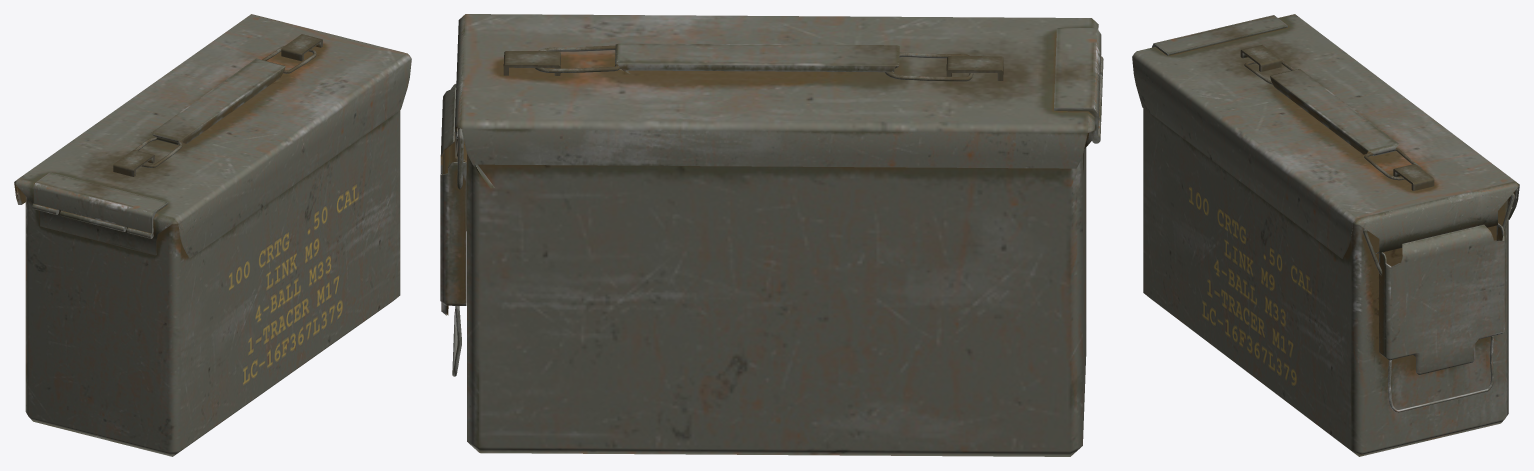
Rendered from ammo_box.glb.
3 renders of one model, left to right at view 1: azimuth 30°, elevation 25°; view 2: azimuth 150°, elevation 25°; view 3: azimuth 270°, elevation 25°, orthographic. The views are drawn at different scales.
Parts seen in each view (by area): view 1: polySurface604, polySurface622, polySurface623, polySurface625, pCube108, pCube109, pCylinder57; view 2: polySurface604, polySurface622, polySurface625, polySurface621, polySurface623, pCube109, pCube108, polySurface624, polySurface626; view 3: polySurface604, polySurface622, polySurface621, polySurface625, polySurface623, polySurface619, pCube109, pCube108.
Part boxes in pixels (bbox=[...]): polySurface604: bbox=[25, 110, 400, 456]; polySurface622: bbox=[14, 14, 411, 258]; polySurface623: bbox=[33, 172, 168, 233]; polySurface625: bbox=[151, 58, 285, 144]; pCube108: bbox=[281, 34, 322, 61]; pCube109: bbox=[113, 150, 154, 176]; pCylinder57: bbox=[60, 210, 126, 231]; polySurface604: bbox=[467, 148, 1086, 456]; polySurface622: bbox=[455, 14, 1098, 188]; polySurface625: bbox=[615, 43, 899, 74]; polySurface621: bbox=[440, 84, 466, 315]; polySurface623: bbox=[1054, 27, 1101, 135]; pCube109: bbox=[946, 56, 1003, 80]; pCube108: bbox=[503, 51, 560, 75]; polySurface624: bbox=[535, 45, 620, 72]; polySurface626: bbox=[885, 52, 973, 81]; polySurface604: bbox=[1143, 108, 1508, 456]; polySurface622: bbox=[1132, 14, 1519, 258]; polySurface621: bbox=[1379, 223, 1505, 374]; polySurface625: bbox=[1270, 69, 1398, 156]; polySurface623: bbox=[1152, 15, 1287, 55]; polySurface619: bbox=[1388, 336, 1493, 412]; pCube109: bbox=[1240, 45, 1281, 71]; pCube108: bbox=[1393, 164, 1434, 190].
Bounding box in the file's own units: 0.0624 × 0.0359 × 0.0491.
1 material, 1 textured.
